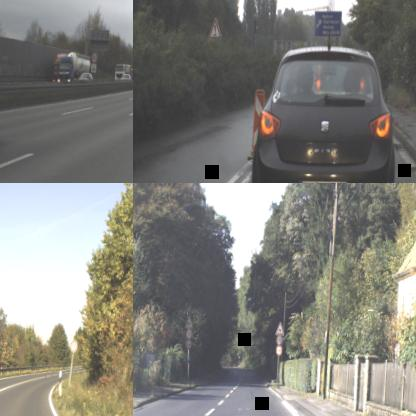DANGER: (207, 15, 223, 40)
no overtaking (trucks): (274, 344, 282, 356), (184, 338, 192, 350)
slippery road: (274, 321, 284, 335), (184, 314, 194, 328)
speed limit 50: (275, 334, 282, 346), (185, 328, 192, 340)
speed limit 70: (70, 339, 78, 352)
speed limit 80: (90, 51, 98, 63)
